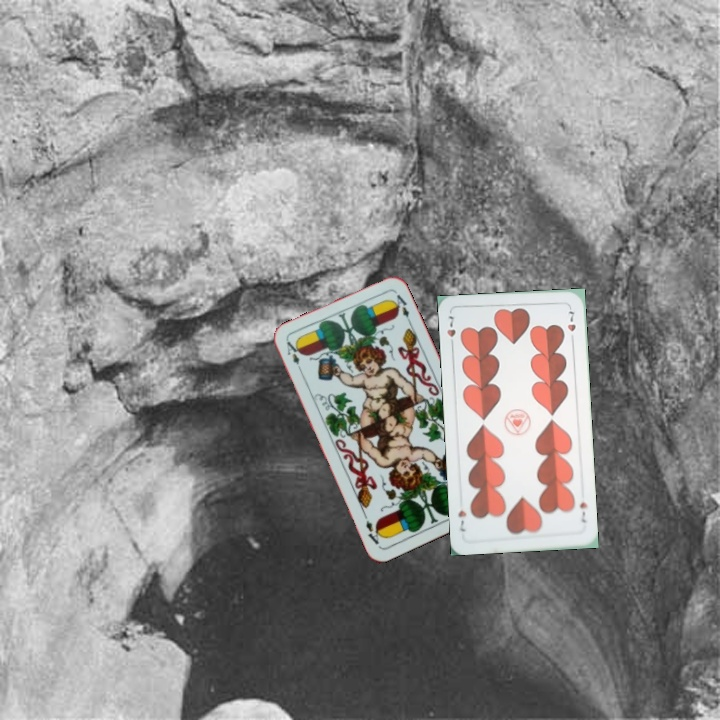EA: (282, 337, 305, 376)
H7: (443, 312, 458, 350), (575, 498, 589, 525)
